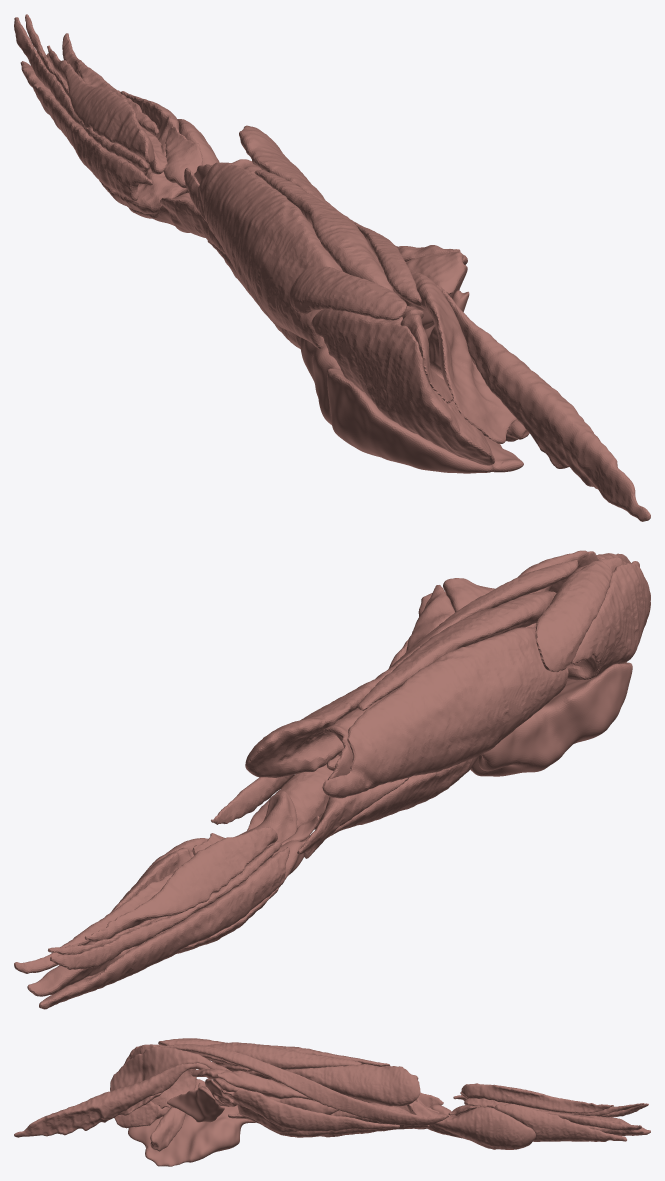
Rendered from vhf-left-muscle.glb.
3 views of the same model, one above another, from view 1: azimuth 30°, elevation 25°; view 2: azimuth 150°, elevation 25°; view 3: azimuth 270°, elevation 25° (orthographic). The views are drawn at different scales.
Parts seen in each view (by area): view 1: vhf-left-muscle-vastuslateralis, vhf-left-muscle-gluteusmedius, vhf-left-muscle-psoasmajor, vhf-left-muscle-gluteusmaximus, vhf-left-muscle-illiacus, vhf-left-muscle-rectusfemoris, vhf-left-muscle-tensorfasciaelatae, vhf-left-muscle-tibialisanterior, vhf-left-muscle-peroneuslongus, vhf-left-muscle-soleus, vhf-left-muscle-extensordigitorumlongus, vhf-left-muscle-vastusmedialis (+8 smaller); view 2: vhf-left-muscle-vastuslateralis, vhf-left-muscle-gluteusmaximus, vhf-left-muscle-peroneuslongus, vhf-left-muscle-tibialisanterior, vhf-left-muscle-gluteusmedius, vhf-left-muscle-vastusmedialis, vhf-left-muscle-rectusfemoris, vhf-left-muscle-tensorfasciaelatae, vhf-left-muscle-sartorius, vhf-left-muscle-extensordigitorumlongus, vhf-left-muscle-bicepsfemorislong, vhf-left-muscle-bicepsfemorisshort (+10 smaller); view 3: vhf-left-muscle-psoasmajor, vhf-left-muscle-sartorius, vhf-left-muscle-vastusmedialis, vhf-left-muscle-gluteusmaximus, vhf-left-muscle-gastrocnemiusmedial, vhf-left-muscle-gracilis, vhf-left-muscle-illiacus, vhf-left-muscle-soleus, vhf-left-muscle-tibialisanterior, vhf-left-muscle-rectusfemoris, vhf-left-muscle-obturatorinternus, vhf-left-muscle-adductorlongus (+17 smaller).
Part boxes in pixels (left/top/right/bottom): vhf-left-muscle-vastuslateralis: left=184, top=162, right=342, bottom=348; vhf-left-muscle-gluteusmedius: left=311, top=309, right=494, bottom=465; vhf-left-muscle-psoasmajor: left=436, top=285, right=650, bottom=521; vhf-left-muscle-gluteusmaximus: left=300, top=336, right=523, bottom=473; vhf-left-muscle-illiacus: left=393, top=272, right=516, bottom=443; vhf-left-muscle-rectusfemoris: left=254, top=170, right=393, bottom=291; vhf-left-muscle-tensorfasciaelatae: left=289, top=266, right=406, bottom=320; vhf-left-muscle-tibialisanterior: left=47, top=45, right=154, bottom=163; vhf-left-muscle-peroneuslongus: left=20, top=61, right=152, bottom=201; vhf-left-muscle-soleus: left=99, top=90, right=187, bottom=213; vhf-left-muscle-extensordigitorumlongus: left=14, top=17, right=149, bottom=172; vhf-left-muscle-vastusmedialis: left=239, top=125, right=337, bottom=210; vhf-left-muscle-vastuslateralis: left=322, top=627, right=568, bottom=798; vhf-left-muscle-gluteusmaximus: left=470, top=662, right=632, bottom=776; vhf-left-muscle-peroneuslongus: left=39, top=847, right=289, bottom=1009; vhf-left-muscle-tibialisanterior: left=84, top=827, right=277, bottom=941; vhf-left-muscle-gluteusmedius: left=567, top=562, right=650, bottom=680; vhf-left-muscle-vastusmedialis: left=245, top=663, right=399, bottom=777; vhf-left-muscle-rectusfemoris: left=357, top=591, right=556, bottom=710; vhf-left-muscle-tensorfasciaelatae: left=535, top=561, right=612, bottom=672; vhf-left-muscle-sartorius: left=211, top=560, right=578, bottom=824; vhf-left-muscle-extensordigitorumlongus: left=50, top=841, right=281, bottom=969; vhf-left-muscle-bicepsfemorislong: left=328, top=756, right=478, bottom=837; vhf-left-muscle-bicepsfemorisshort: left=297, top=777, right=408, bottom=858; vhf-left-muscle-psoasmajor: left=14, top=1063, right=210, bottom=1137; vhf-left-muscle-sartorius: left=165, top=1044, right=448, bottom=1126; vhf-left-muscle-vastusmedialis: left=245, top=1064, right=420, bottom=1106; vhf-left-muscle-gluteusmaximus: left=128, top=1079, right=255, bottom=1166; vhf-left-muscle-gastrocnemiusmedial: left=406, top=1101, right=535, bottom=1149; vhf-left-muscle-gracilis: left=231, top=1089, right=399, bottom=1131; vhf-left-muscle-illiacus: left=110, top=1046, right=229, bottom=1115; vhf-left-muscle-soleus: left=455, top=1104, right=626, bottom=1141; vhf-left-muscle-tibialisanterior: left=461, top=1083, right=613, bottom=1113; vhf-left-muscle-rectusfemoris: left=198, top=1042, right=361, bottom=1069; vhf-left-muscle-obturatorinternus: left=167, top=1086, right=224, bottom=1122; vhf-left-muscle-adductorlongus: left=216, top=1070, right=314, bottom=1100.
Size of the model in its own units: 163 by 176 by 1022.
